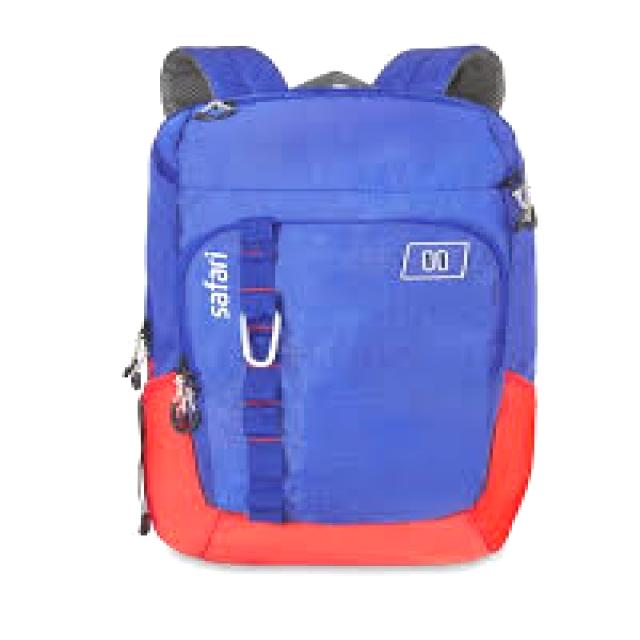backpack: (126, 42, 539, 568)
